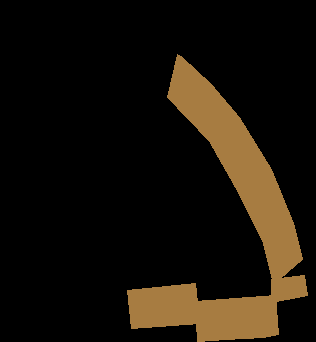parkingspot: (167, 54, 302, 284), (195, 295, 278, 341), (127, 283, 199, 328), (271, 275, 307, 302)
